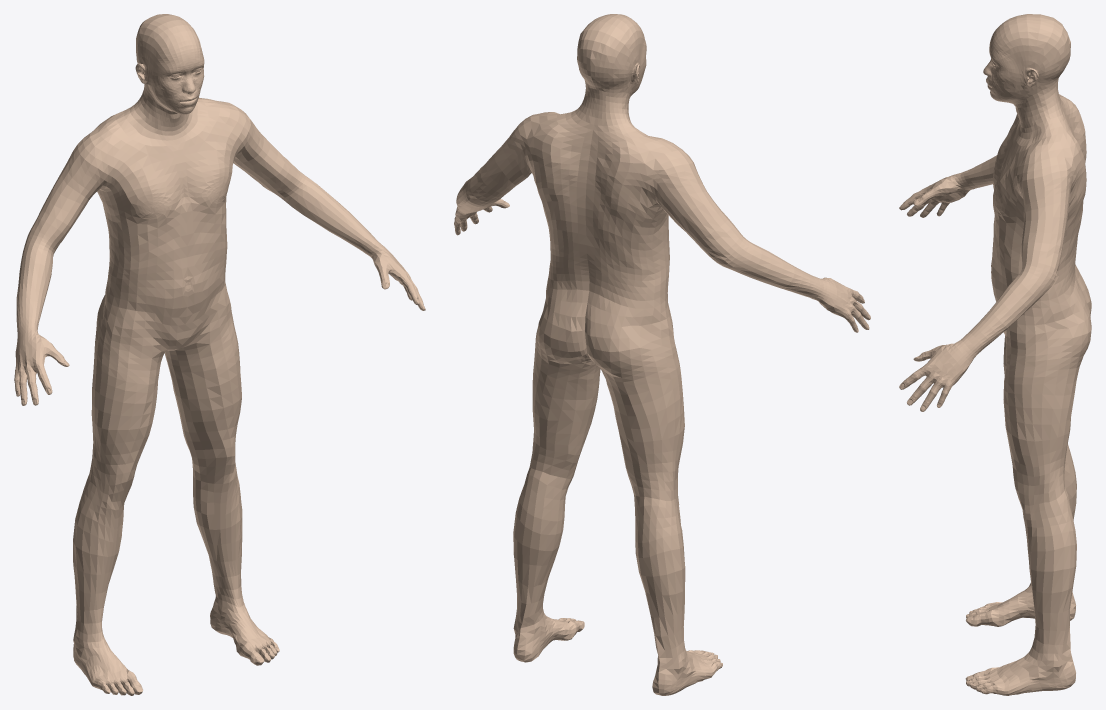
The model's file is male-young-heavy-medium.glb.
The picture shows the model from 3 angles, left to right: view 1: azimuth 30°, elevation 25°; view 2: azimuth 150°, elevation 25°; view 3: azimuth 270°, elevation 25°; orthographic projection.
Visible parts, largest first — view 1: world; view 2: world; view 3: world.
Part boxes in pixels (bbox=[...]): world: bbox=[14, 14, 425, 695]; world: bbox=[454, 14, 870, 695]; world: bbox=[899, 14, 1091, 695].
Size of the model in its own units: 1.24 by 1.89 by 0.5169.
